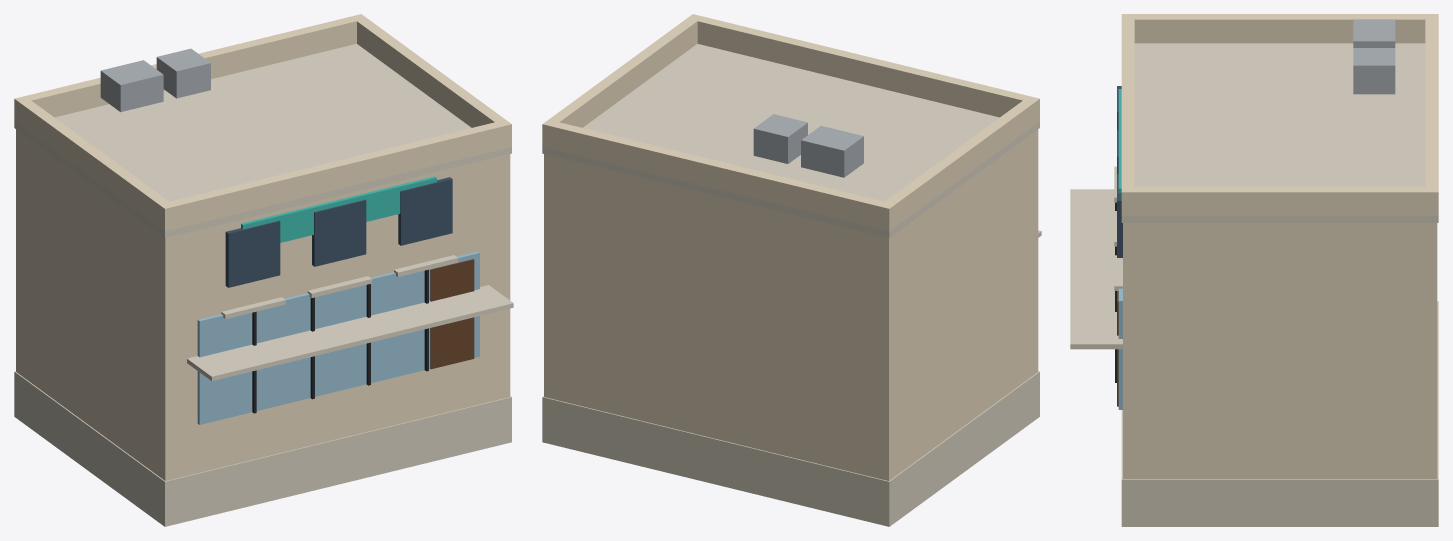
Rendered from building.grocery.glb.
3 views of the same model, side by side, from view 1: azimuth 30°, elevation 25°; view 2: azimuth 150°, elevation 25°; view 3: azimuth 270°, elevation 25° (orthographic). The views are drawn at different scales.
Visible parts, largest first — view 1: building.grocery; view 2: building.grocery; view 3: building.grocery.
Part boxes in pixels (x1,y1,x2,y2): building.grocery: [14, 14, 513, 526]; building.grocery: [542, 14, 1041, 526]; building.grocery: [1070, 14, 1438, 526].
Size of the model in its own units: 8.05 by 7.65 by 7.03.
